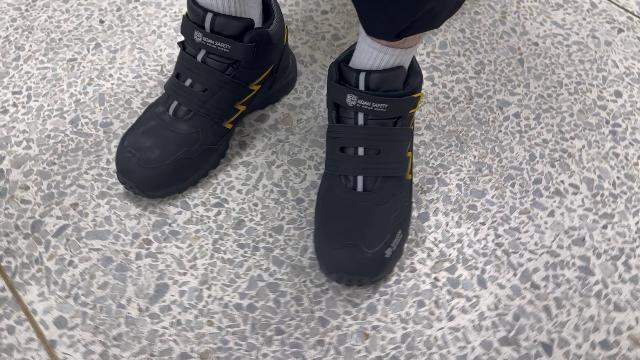shoe_worn: (108, 2, 300, 202), (313, 43, 427, 290)
